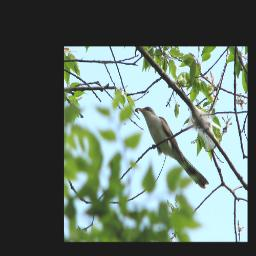Cuckoo: (136, 105, 209, 187)
